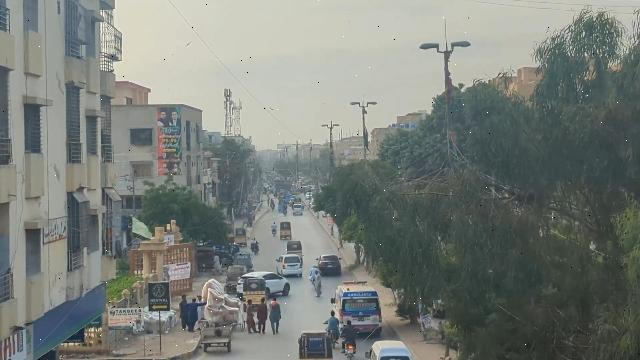Bike: (344, 340, 357, 360), (328, 330, 339, 348)
Car: (237, 271, 290, 298), (277, 255, 303, 279), (316, 253, 343, 276)
Cart: (198, 323, 235, 353)
Person: (244, 298, 258, 335), (269, 297, 282, 336), (256, 298, 268, 335), (193, 292, 205, 328), (178, 293, 189, 331), (187, 297, 198, 333), (341, 320, 357, 344), (325, 308, 340, 331), (313, 270, 323, 297)
Rickshaw: (297, 331, 333, 360), (242, 277, 267, 306)
Suzuki: (225, 265, 245, 291)
Van: (330, 282, 382, 336), (365, 338, 414, 360)
